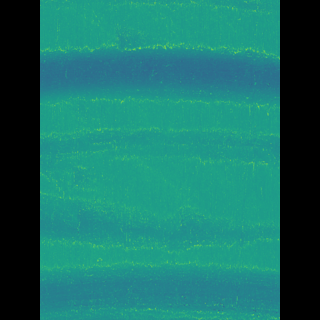Loch: (68, 42, 250, 114), (69, 193, 250, 254), (69, 260, 250, 320), (70, 130, 251, 167)
